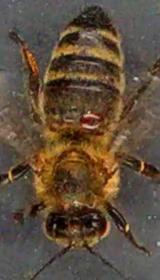varroa_mite: (76, 106, 108, 134)
